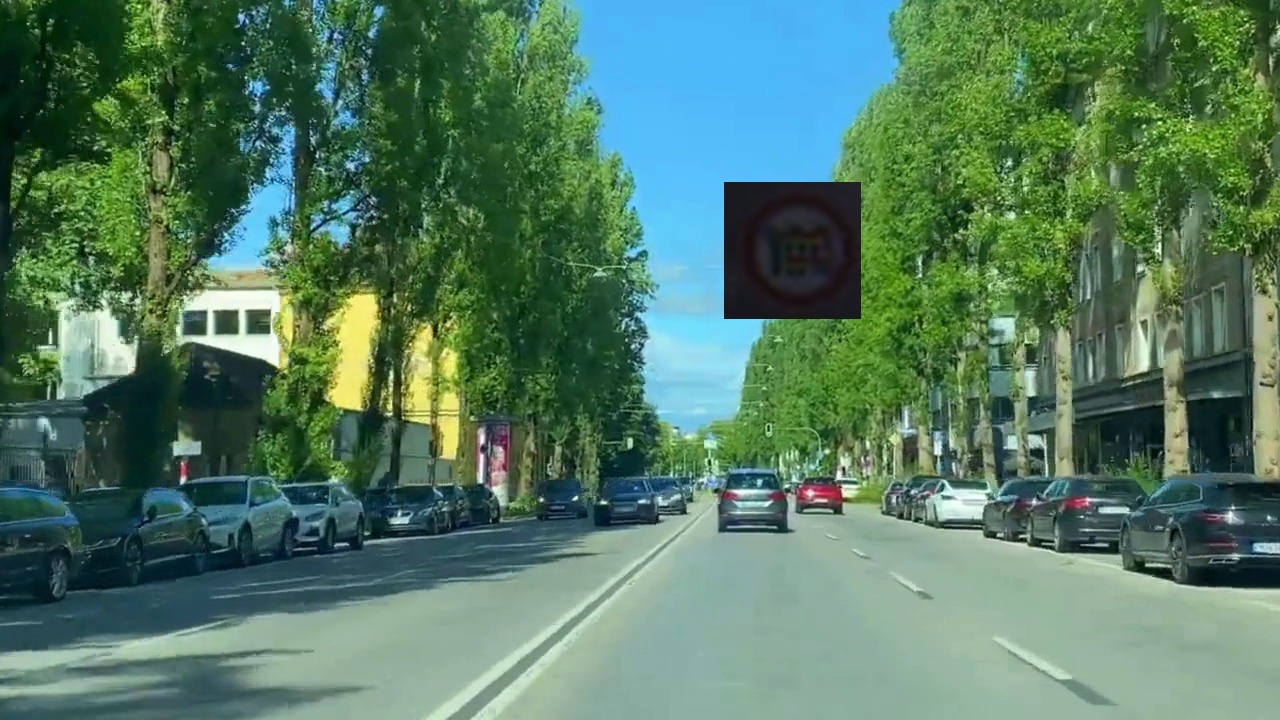Speed 100: (724, 182, 861, 319)
